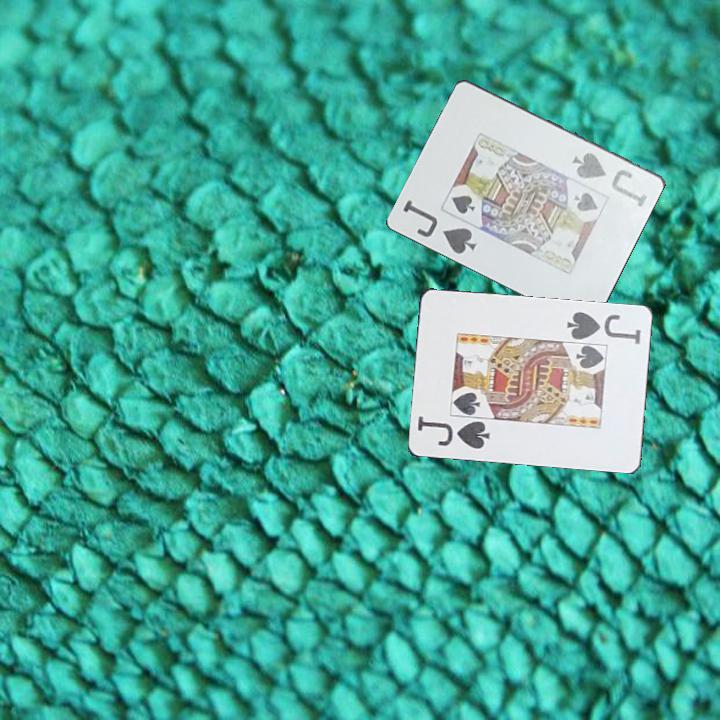Js: (569, 149, 652, 210), (400, 196, 480, 257), (563, 308, 643, 347), (413, 414, 493, 452)
